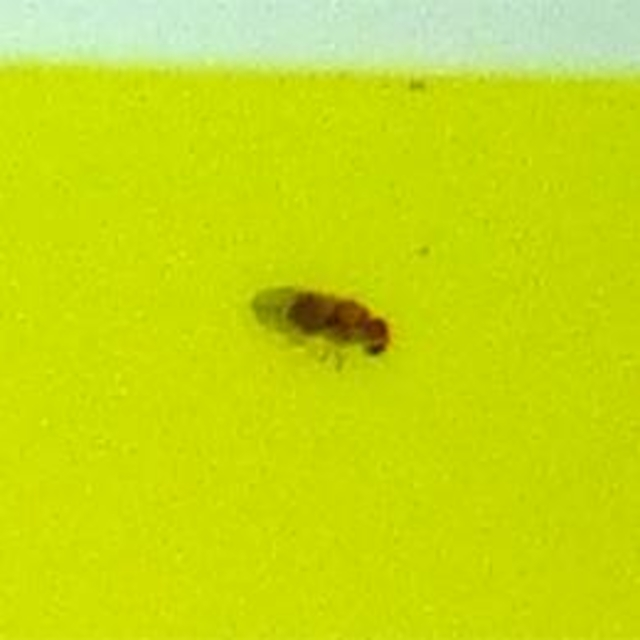Brachycera: (246, 275, 394, 365)
